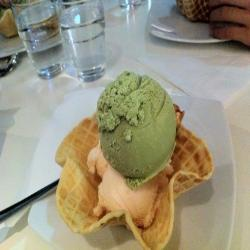omelette: (93, 69, 176, 225)
